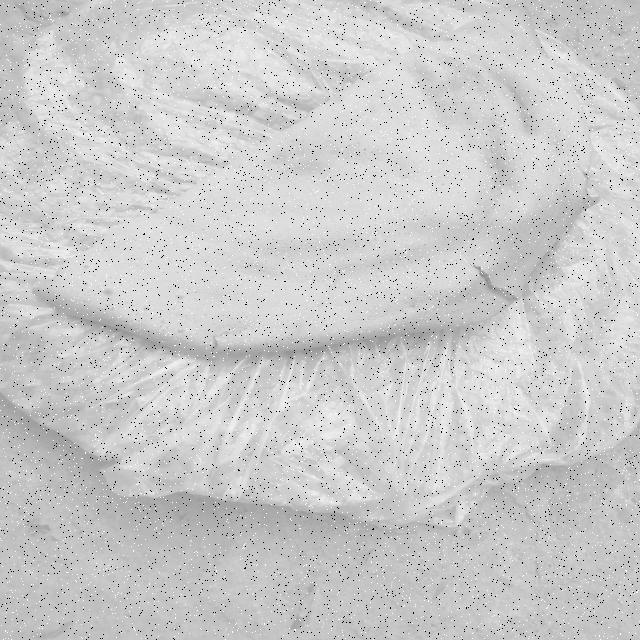injera_mold: (175, 338, 213, 348), (154, 328, 173, 339), (102, 286, 115, 296), (219, 340, 233, 349), (240, 338, 252, 346), (422, 305, 435, 312), (370, 235, 381, 243), (176, 328, 187, 334), (142, 306, 152, 312), (81, 281, 90, 287), (81, 264, 90, 270), (400, 104, 409, 110), (174, 295, 186, 299), (159, 319, 168, 324), (108, 307, 116, 312), (176, 300, 184, 304), (107, 276, 113, 279), (185, 310, 188, 314), (421, 295, 425, 298), (439, 300, 443, 303), (76, 297, 80, 299), (432, 298, 436, 300), (76, 302, 79, 304), (71, 300, 74, 302), (415, 305, 418, 307), (513, 38, 516, 40), (517, 43, 519, 45), (510, 40, 511, 42), (506, 39, 507, 41), (515, 30, 516, 32), (520, 41, 521, 43), (503, 37, 504, 38)
